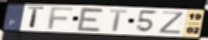5: (135, 9, 159, 34)
E: (75, 6, 106, 33)
F: (46, 6, 74, 30)
T: (109, 9, 129, 33), (26, 6, 45, 29)
Z: (157, 11, 186, 35)
